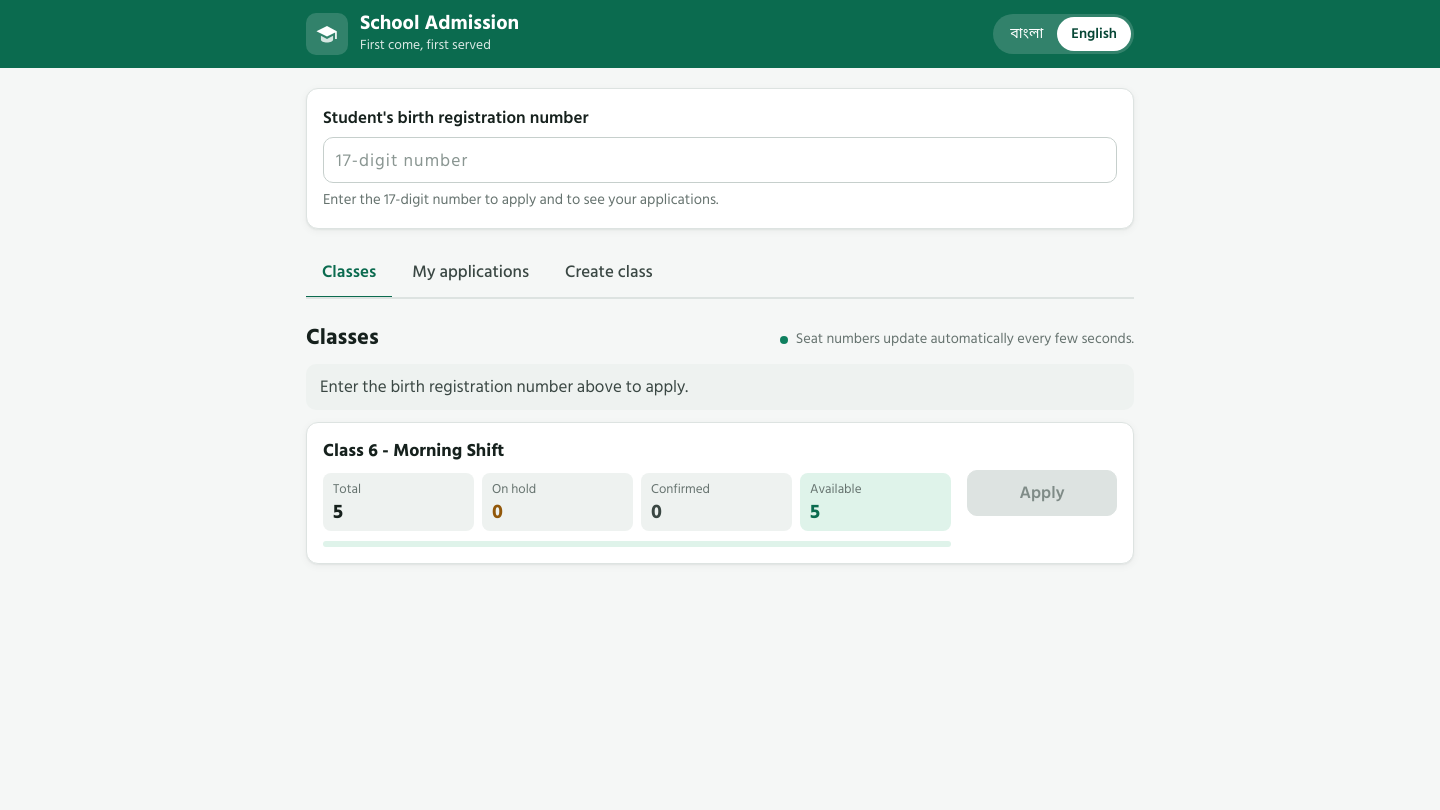
applying and paying › applies, opens the application with a countdown, and confirms on payment
The width and height of the screenshot is (1440, 810).
Type "20152691234567890" into the field labelled "Student's birth registration number" at [720, 160], box [323,137,1117,183]
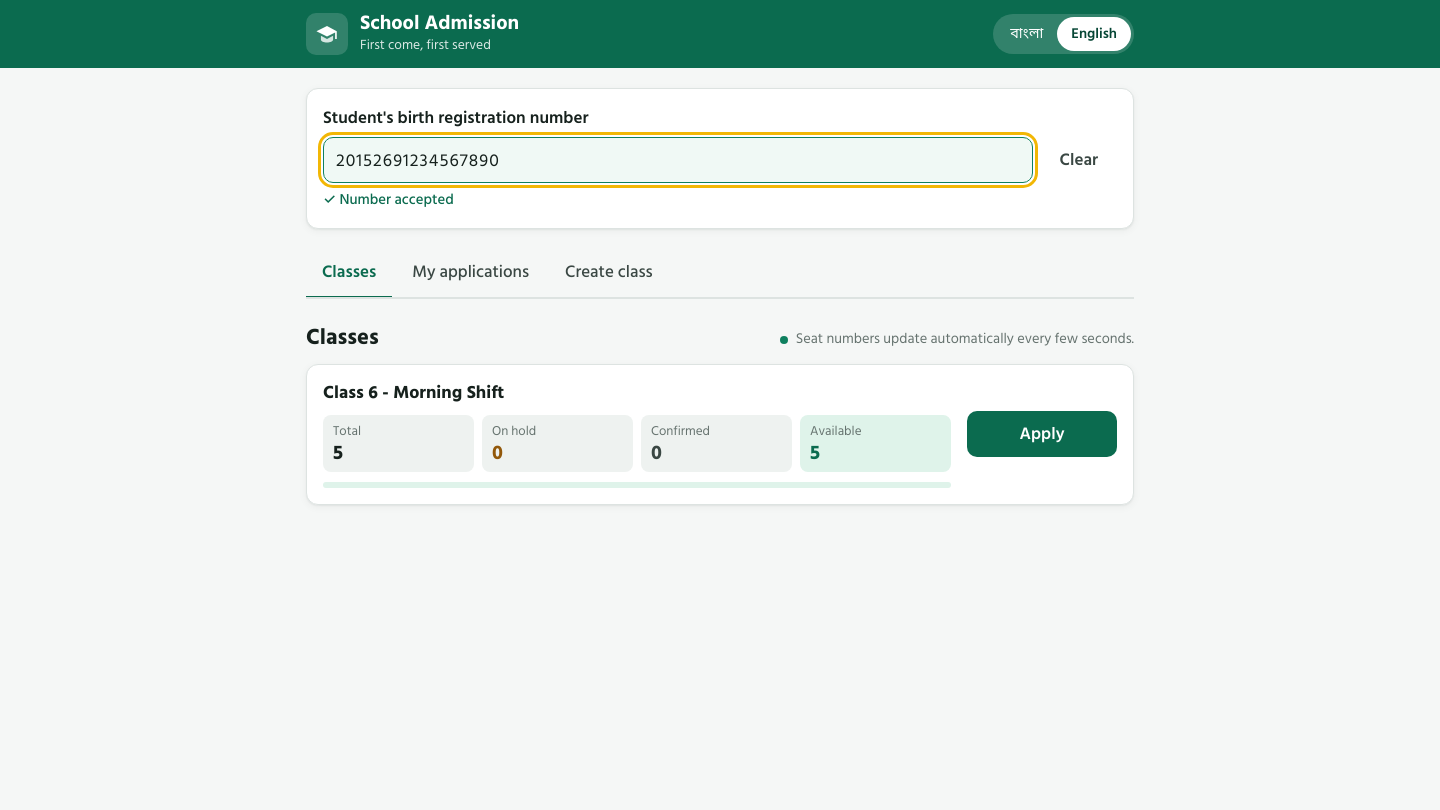
Click the button "Apply" at [1042, 434], box [967,411,1117,457]
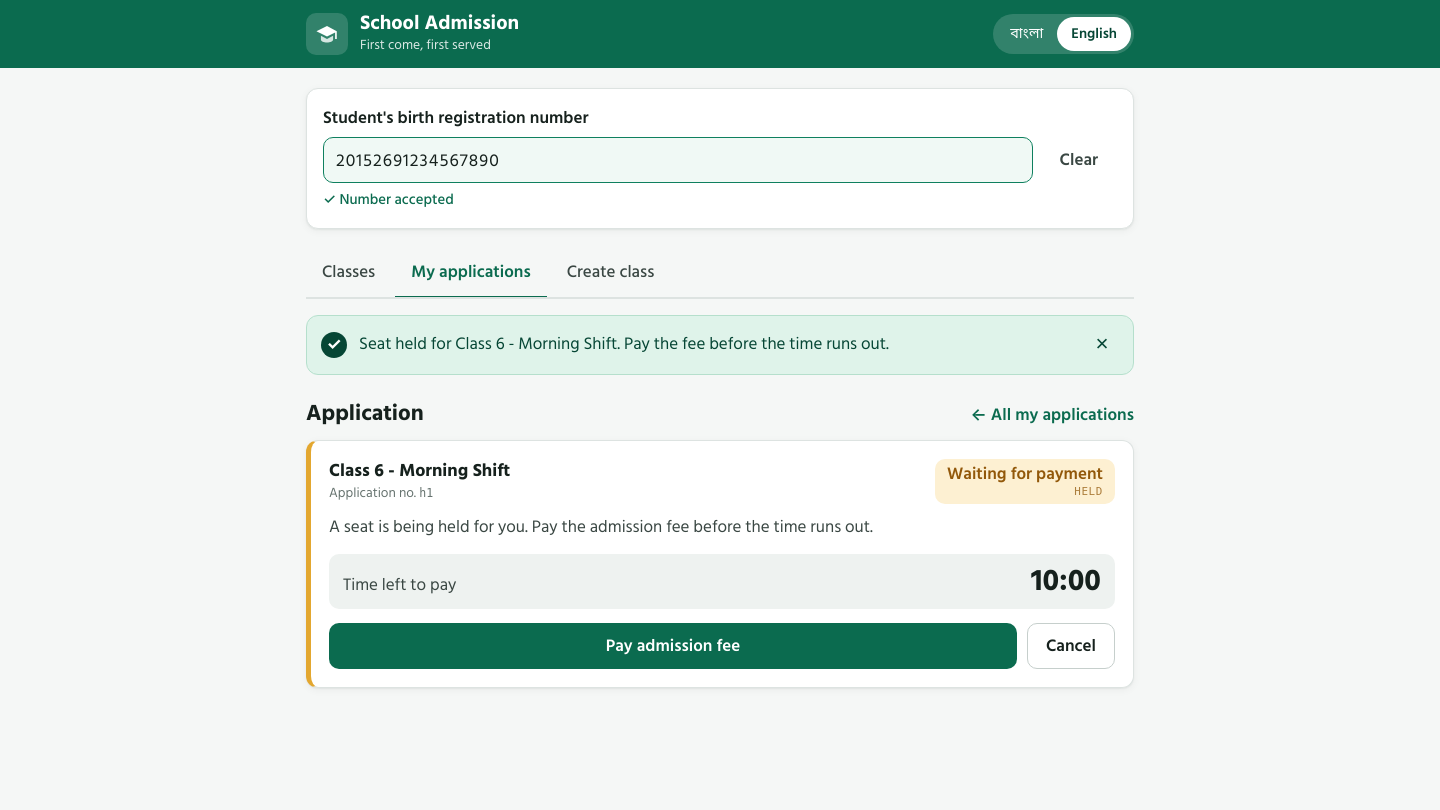
Expected: the heading "Application" is shown, [306,398,424,428]
Click the button "Pay admission fee" at [673, 646], box [329,623,1017,669]
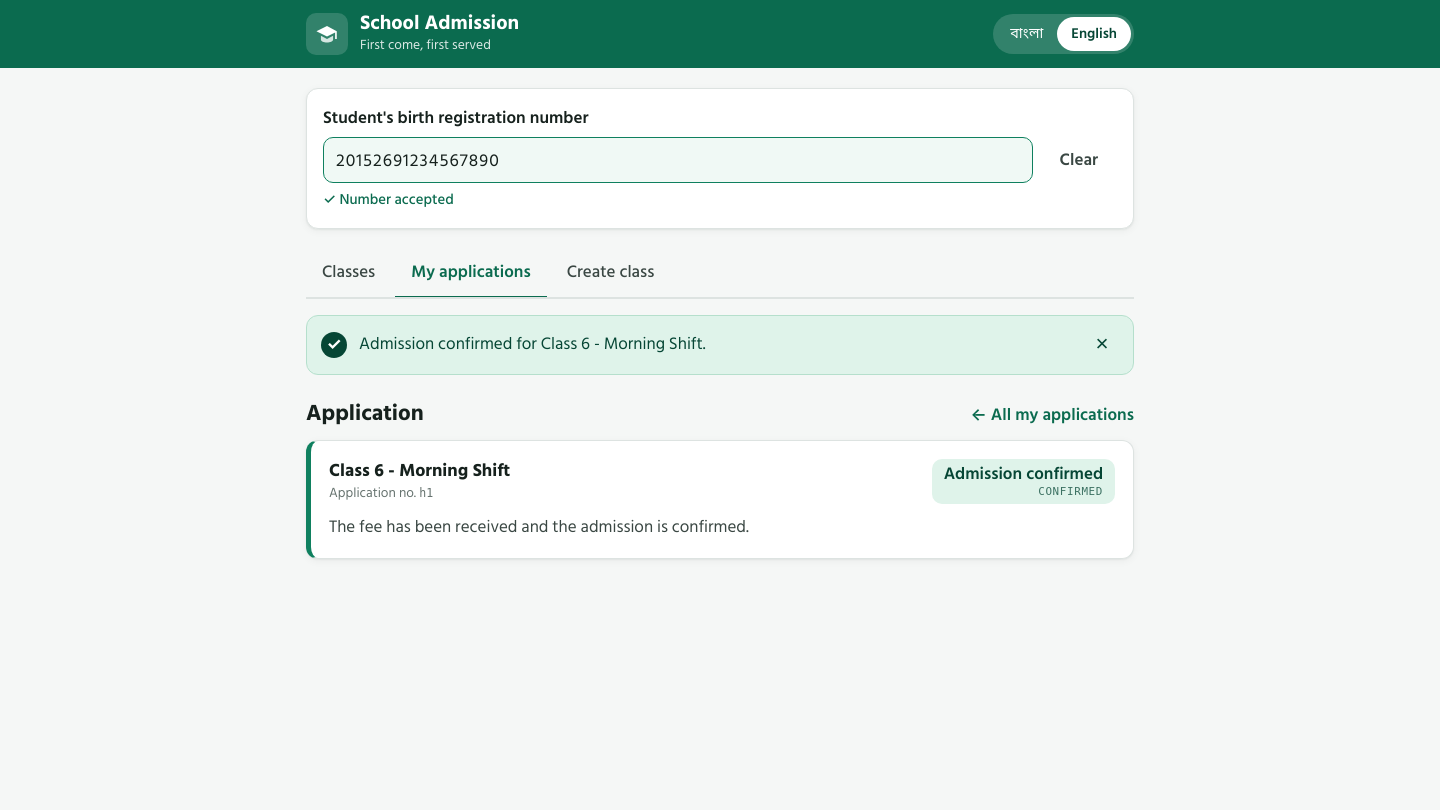
Expected: the text "CONFIRMED" is shown, [1038,485,1103,499]
